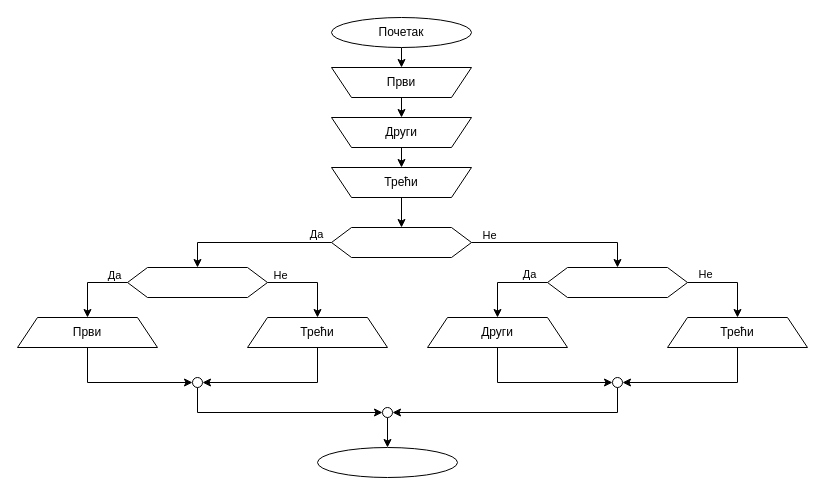
The diagram is 825 pixels wide and 495 high, and some of its shapes have lost their labels. Each missing label, with the box of its shape:
Други > Трећи: (546, 266, 688, 298)
Крај: (316, 446, 458, 478)
Први > Други: (330, 226, 472, 258)
Први > Трећи: (126, 266, 268, 298)
